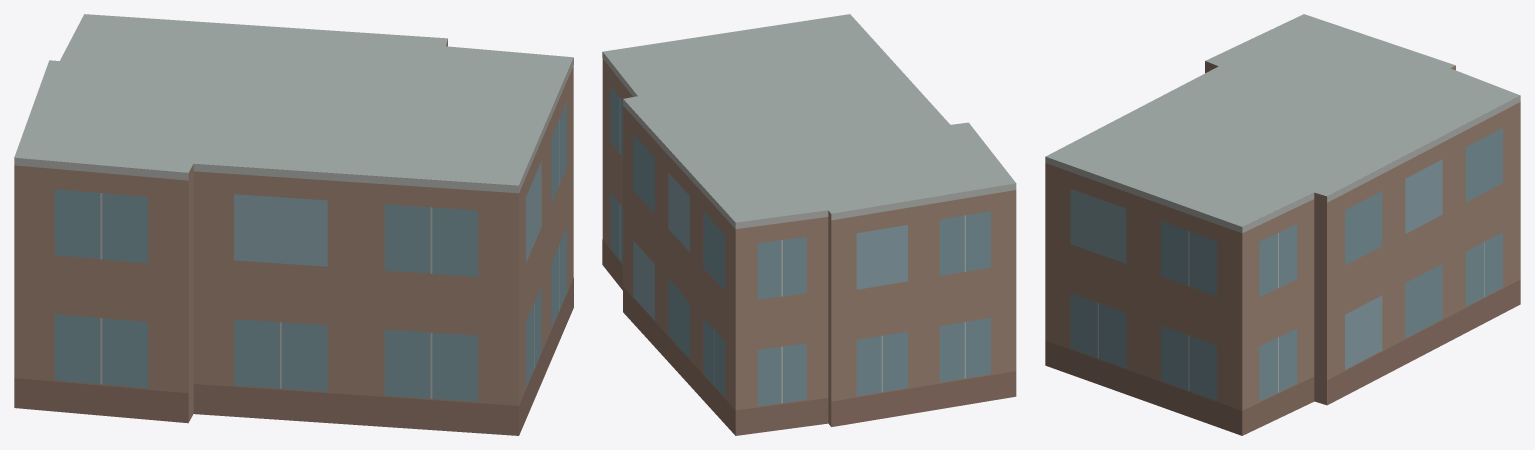
File: survey-upis-32537388.glb
3 renders of one model, left to right at view 1: azimuth 30°, elevation 25°; view 2: azimuth 150°, elevation 25°; view 3: azimuth 270°, elevation 25°, orthographic. The views are drawn at different scales.
Parts seen in each view (by area): view 1: survey-upis-32537388.tmp; view 2: survey-upis-32537388.tmp; view 3: survey-upis-32537388.tmp.
Boxes of the visible parts, x1=… form: survey-upis-32537388.tmp: x1=14, y1=14, x2=573, y2=435; survey-upis-32537388.tmp: x1=602, y1=14, x2=1016, y2=435; survey-upis-32537388.tmp: x1=1045, y1=14, x2=1520, y2=435.
Size of the model in its own units: 17.41 by 7.96 by 16.41.
